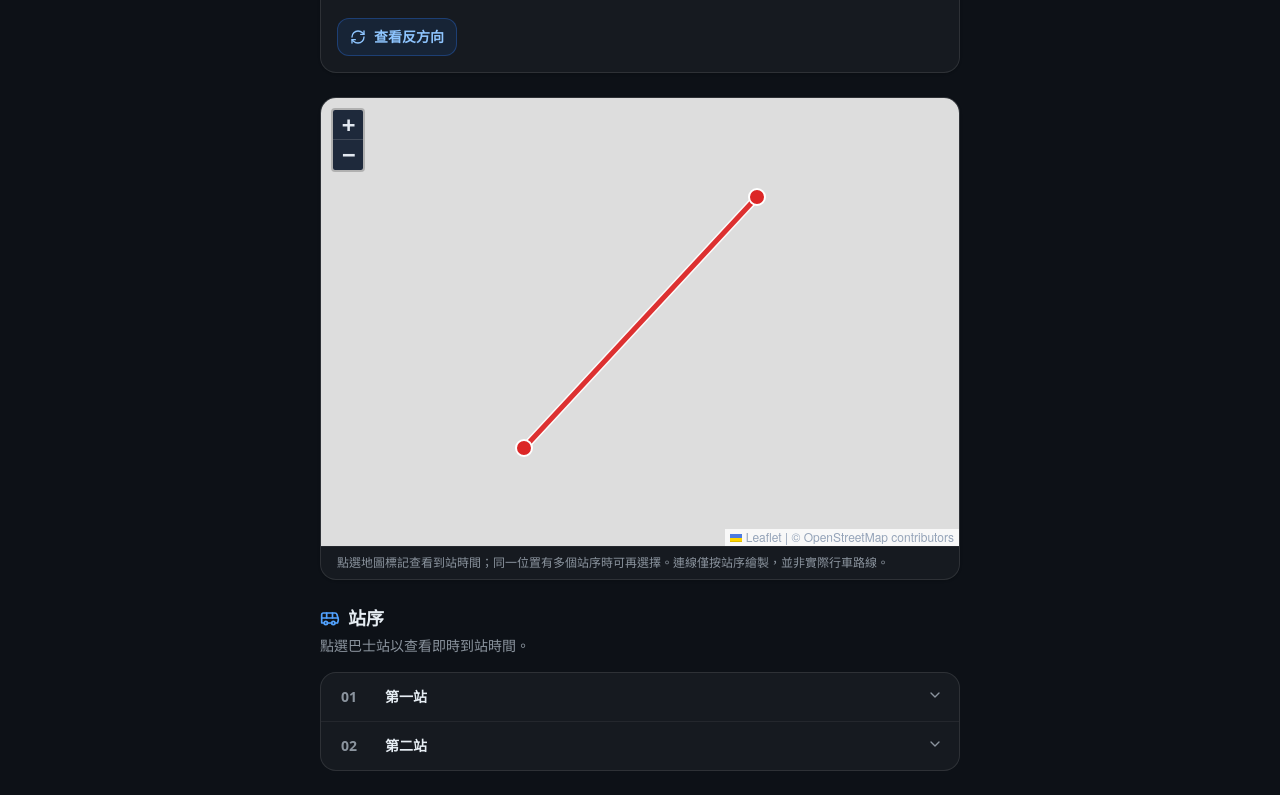
RouteDetailPage › shows a KMB remark instead of a dash when the selected stop has only null ETAs
(page scrolled)
Check: the text "第一站" is shown, box [385, 686, 427, 706]
What coordinates should you click on to do the following:
click the button "01 第一站"
I would click on:
 (406, 696)
Its box is [321, 672, 959, 720].
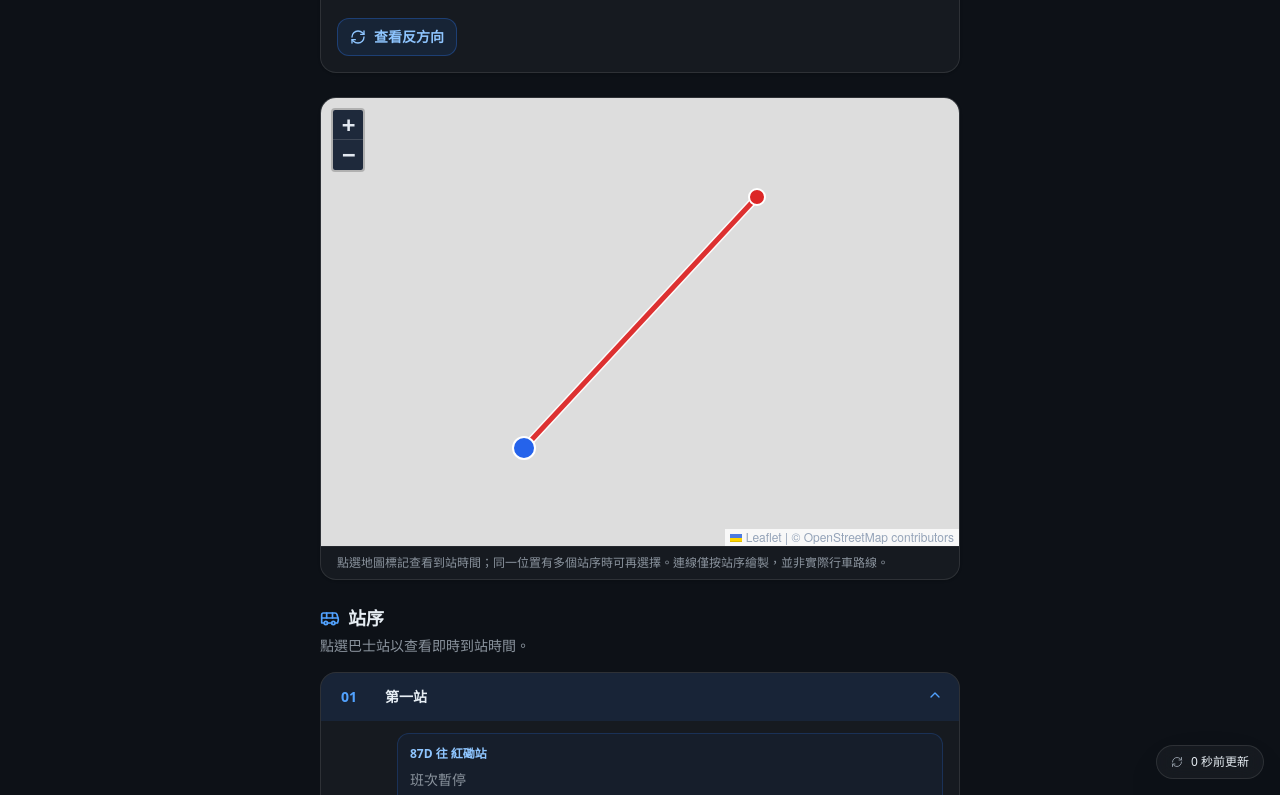
Check: the text "班次暫停" is shown, box [410, 770, 466, 788]
